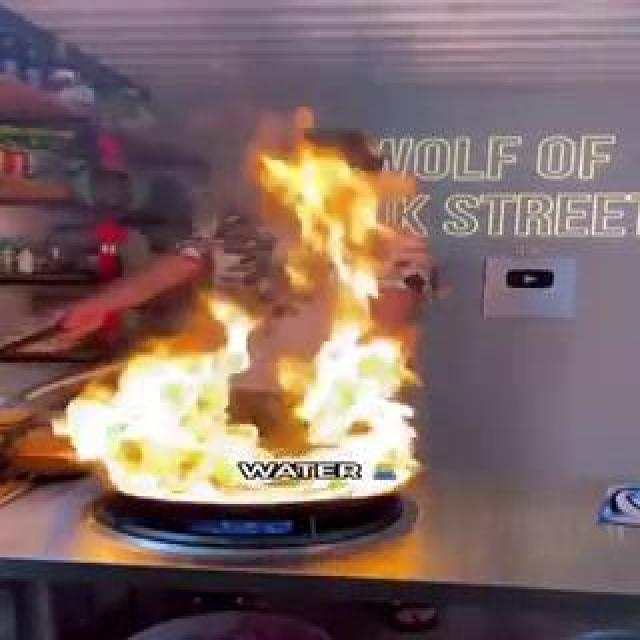Fire: (251, 330, 414, 354)
